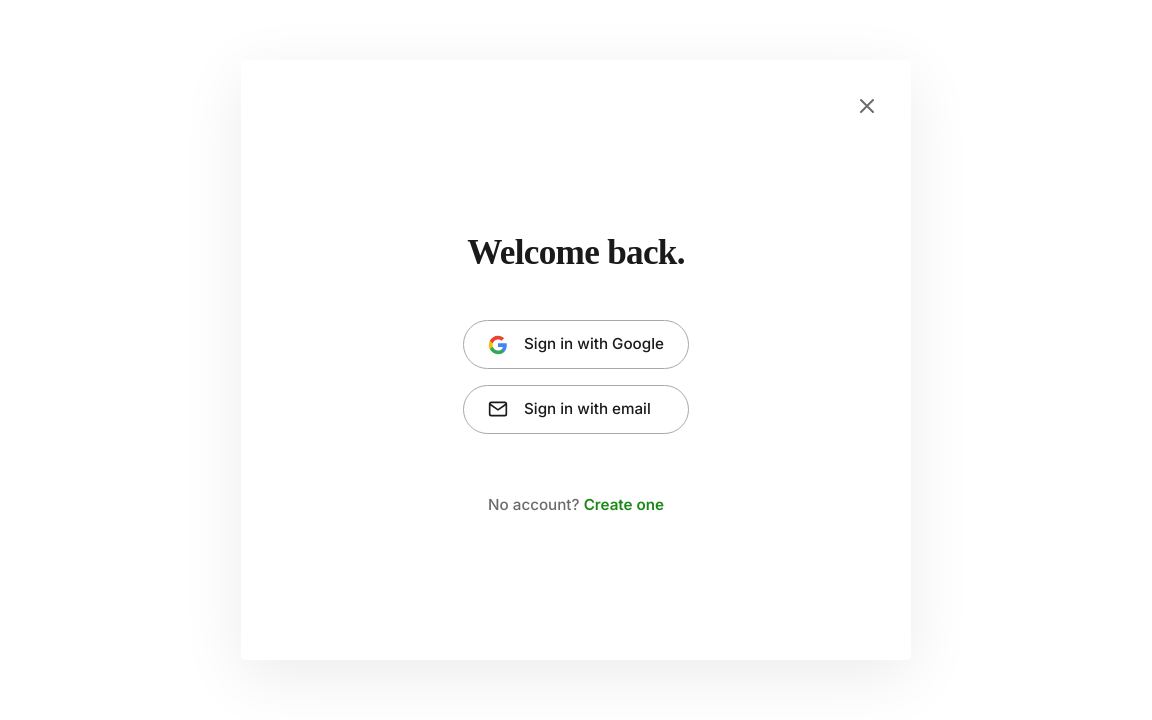
Scenario: Login Component › handles login error
Click the button "Sign in with email" at (576, 409), box [463,385,689,434]
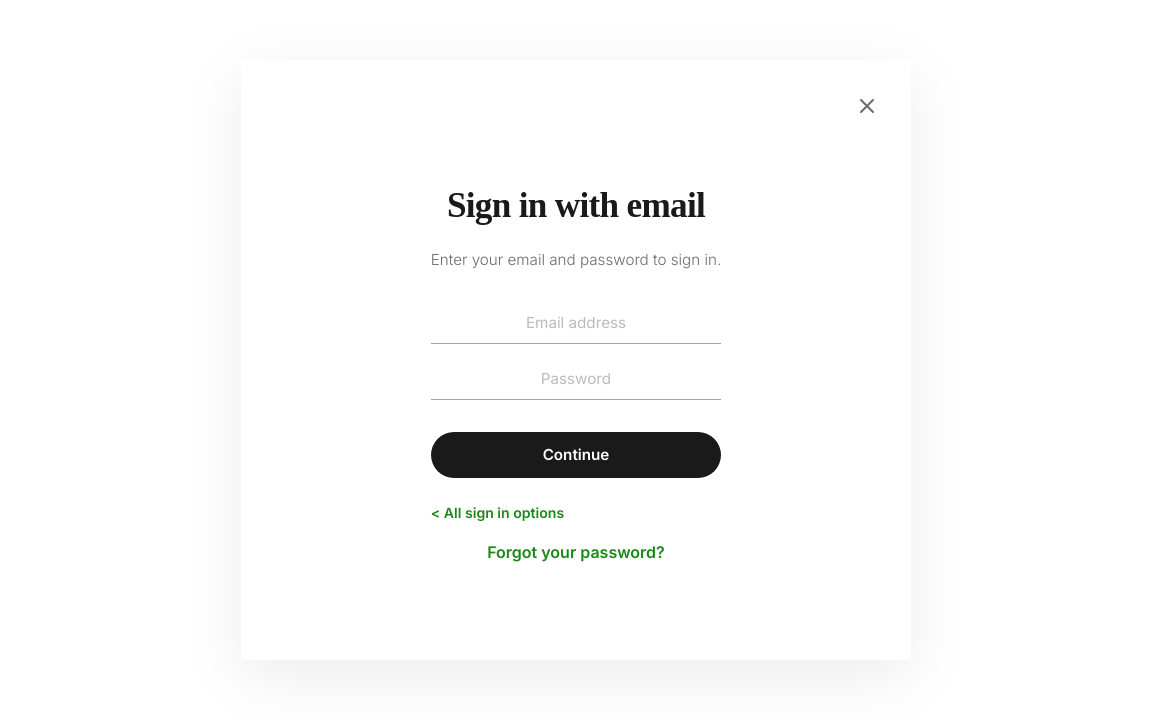
Type "test@example.com" into the field with placeholder "Email address" at (576, 324), box [431,304,721,344]
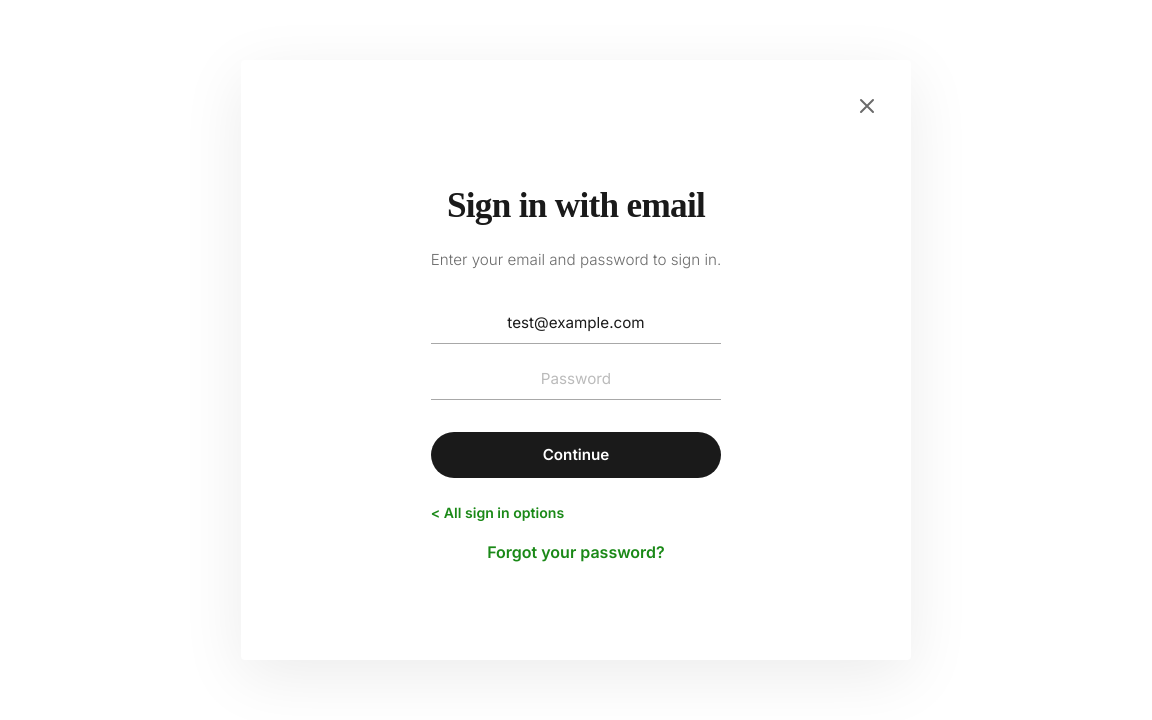
Type "wrongpassword" into the password field with placeholder "Password" at (576, 380), box [431,360,721,400]
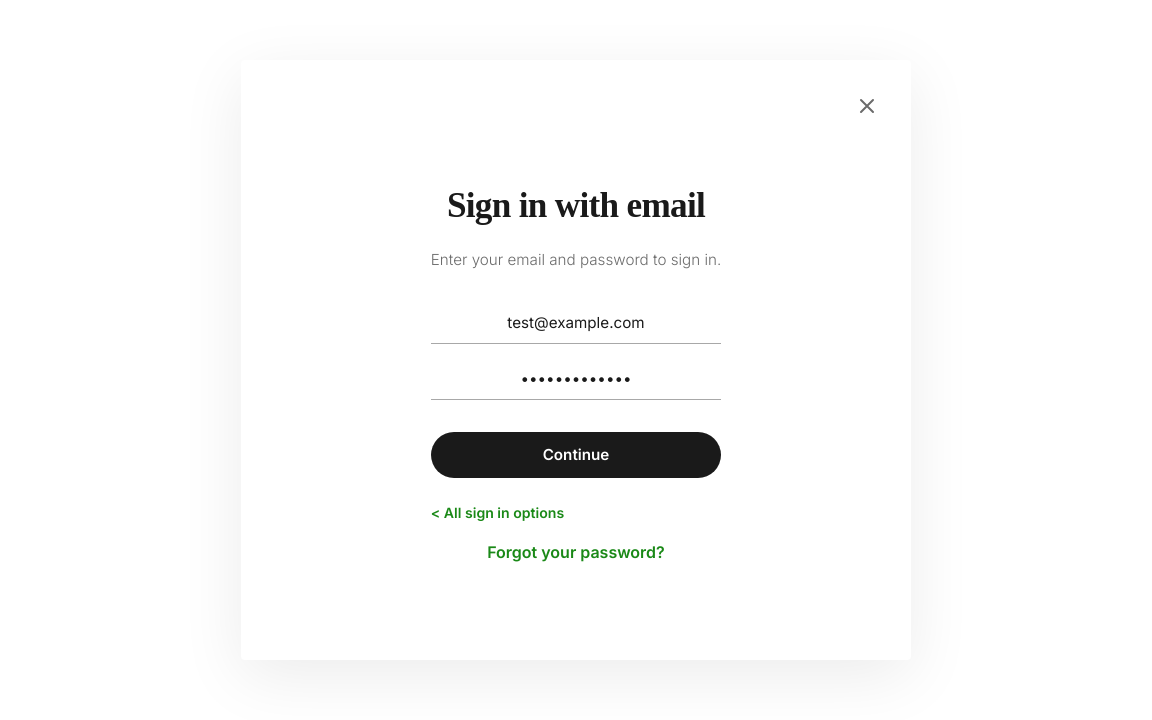
Click the button with id "login-submit-btn" at (576, 455), box [431,432,721,478]
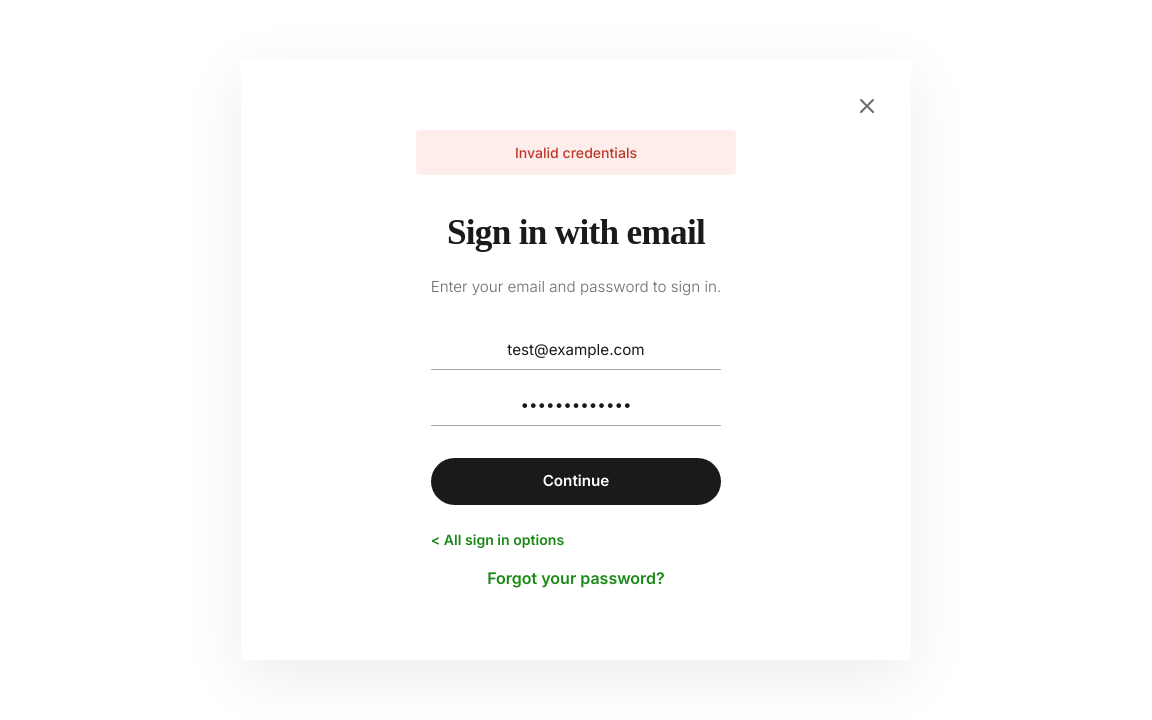
Check: the text "Invalid credentials" is shown, box [416,130,736,175]
